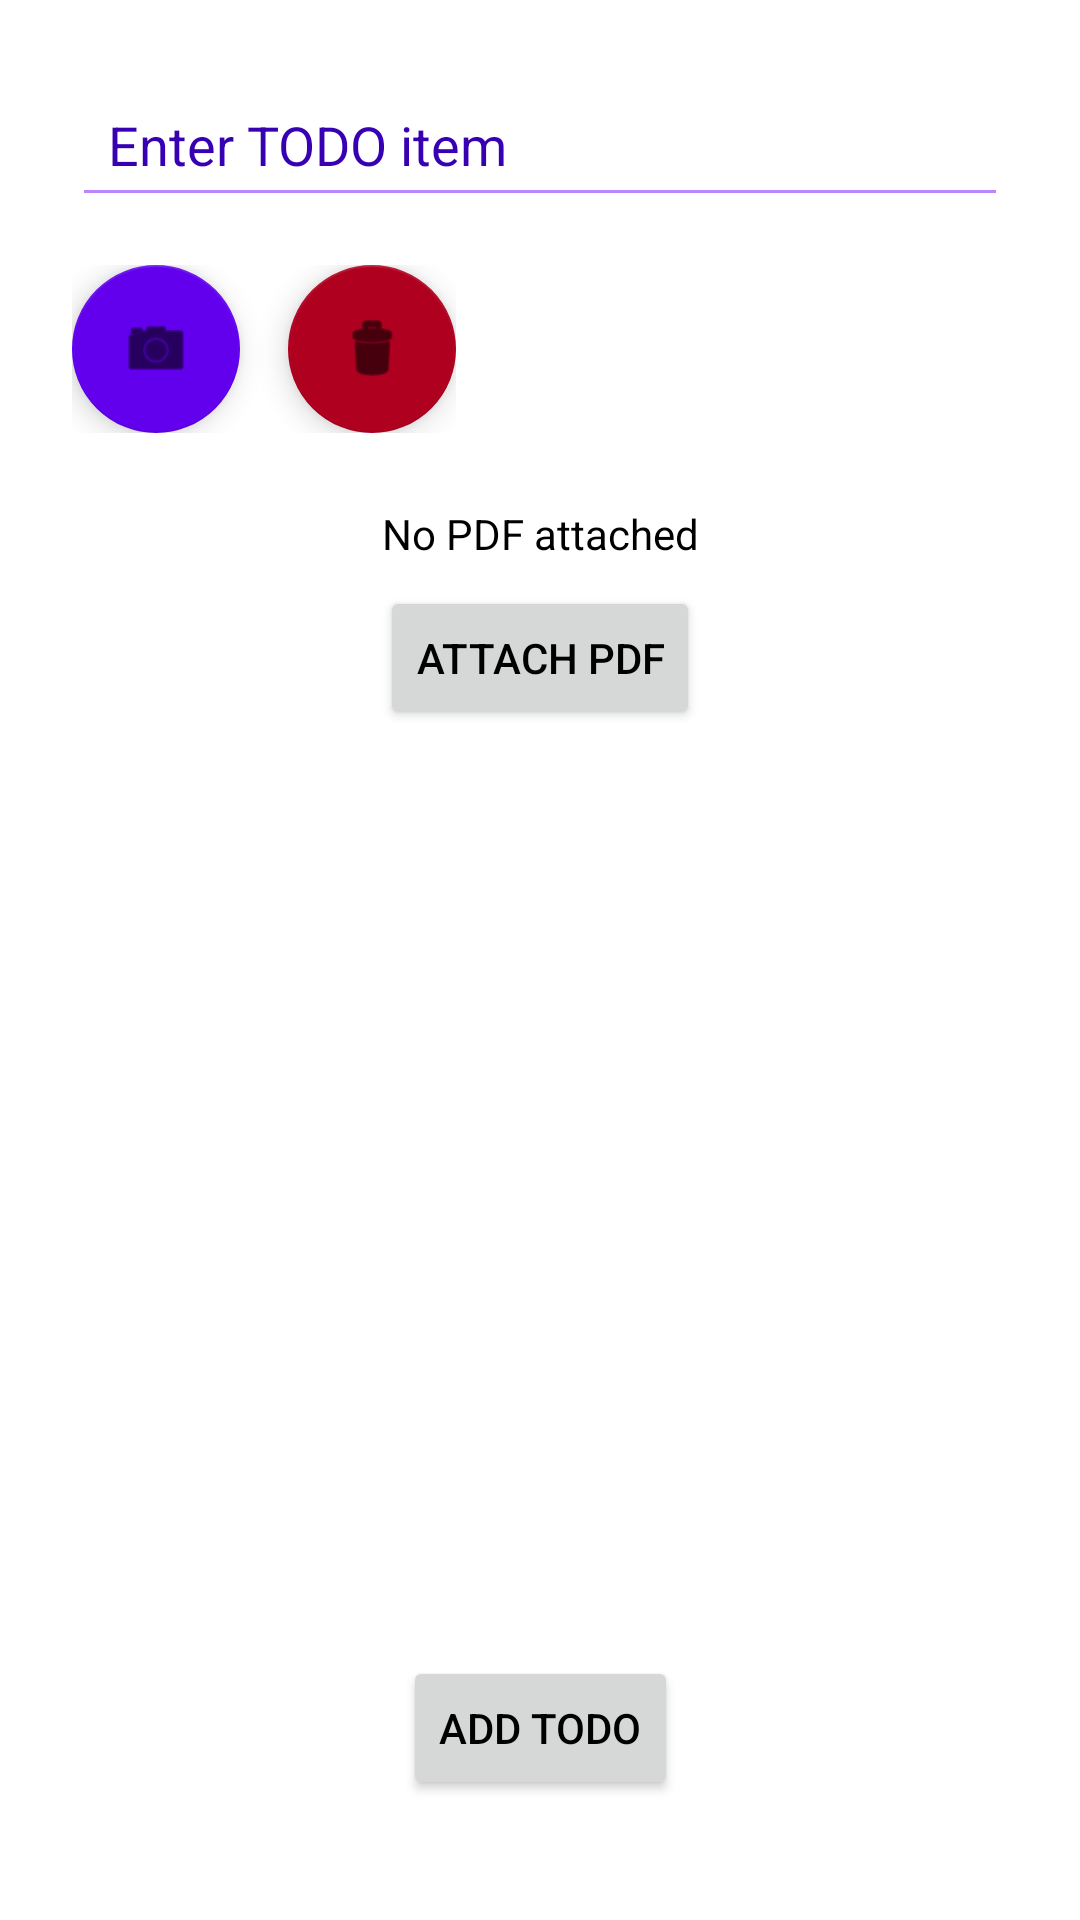

Screen size 1080px×1920px. Icon name, then its box in pixels as (x1, y1, x2, y2):
Delete note: (288, 265, 456, 433)
Take photo: (72, 265, 240, 433)
